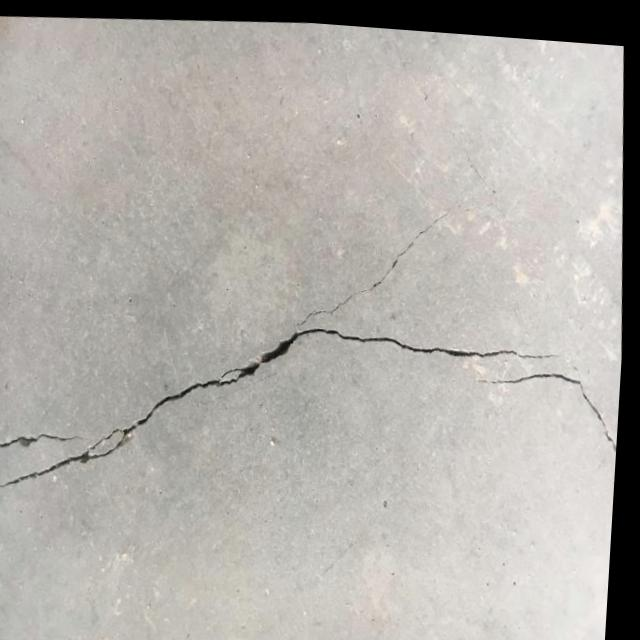Crack: (298, 199, 632, 456), (0, 297, 319, 539)
